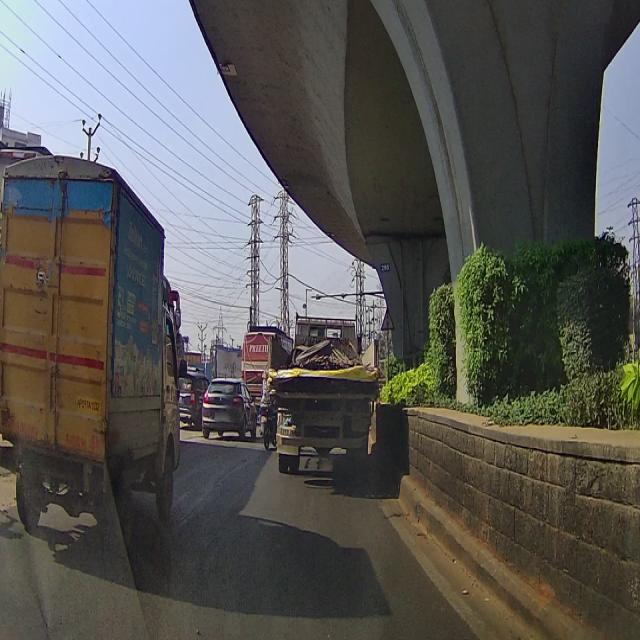gap-in-median: (380, 306, 396, 331)
